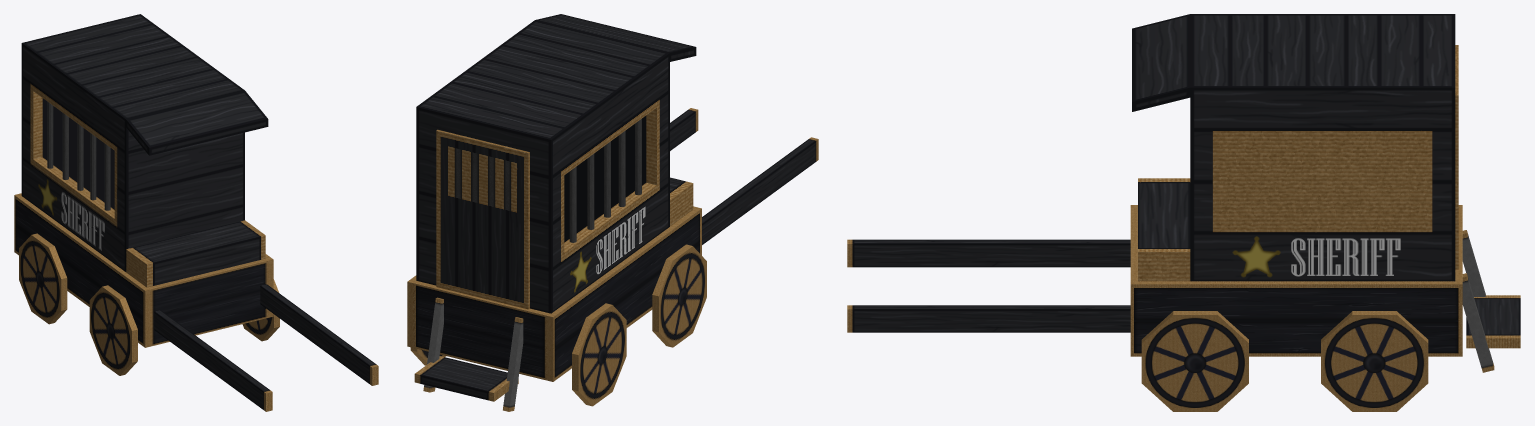
The model's file is Cart.fbx.
3 renders of one model, left to right at view 1: azimuth 30°, elevation 25°; view 2: azimuth 150°, elevation 25°; view 3: azimuth 270°, elevation 25°, orthographic. The views are drawn at different scales.
Parts seen in each view (by area): view 1: Wagon, Front_wheels, Back_wheels; view 2: Wagon, Door, Back_wheels, Front_wheels; view 3: Wagon, Back_wheels, Front_wheels, Door.
Boxes of the visible parts, box(x1,y1,x2,y2) form: Wagon: box(14, 14, 378, 411); Front_wheels: box(89, 279, 279, 375); Back_wheels: box(19, 233, 67, 324); Wagon: box(407, 14, 818, 411); Door: box(436, 129, 529, 309); Back_wheels: box(410, 303, 626, 406); Front_wheels: box(652, 244, 706, 347); Wagon: box(847, 14, 1520, 372); Back_wheels: box(1321, 311, 1428, 411); Front_wheels: box(1141, 311, 1248, 411); Door: box(1455, 45, 1458, 269).
Bounding box in the file's own units: 1.7 × 2.73 × 5.29.
